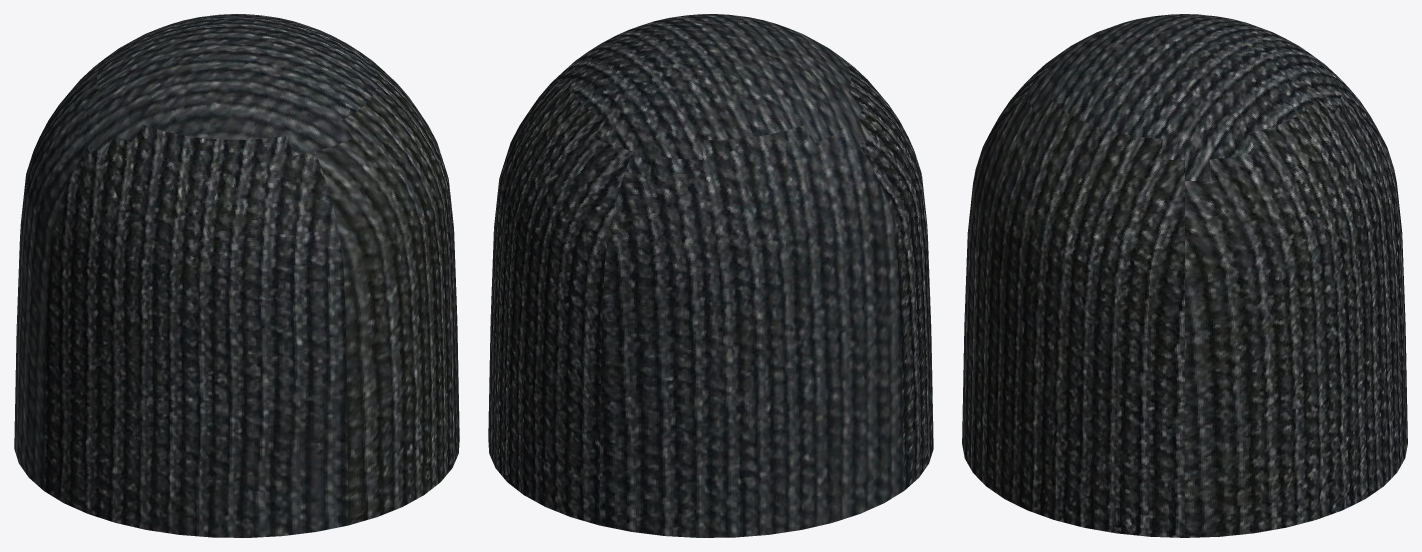
Rendered from mask.glb.
The picture shows the model from 3 angles, left to right: view 1: azimuth 30°, elevation 25°; view 2: azimuth 150°, elevation 25°; view 3: azimuth 270°, elevation 25°; orthographic projection.
Parts seen in each view (by area): view 1: Sphere; view 2: Sphere; view 3: Sphere.
Part boxes in pixels (x1=…): Sphere: x1=14, y1=14, x2=459, y2=537; Sphere: x1=488, y1=14, x2=933, y2=537; Sphere: x1=962, y1=14, x2=1407, y2=537.
Size of the model in its own units: 1.97 by 2 by 1.97.
1 material, 1 textured.
